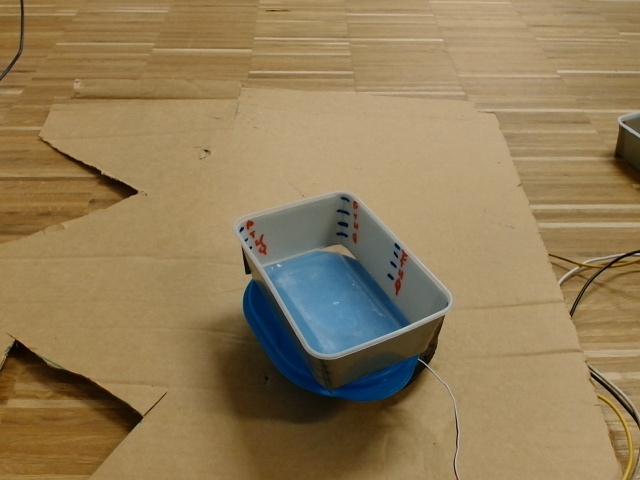Small_zero: (238, 189, 457, 359)
